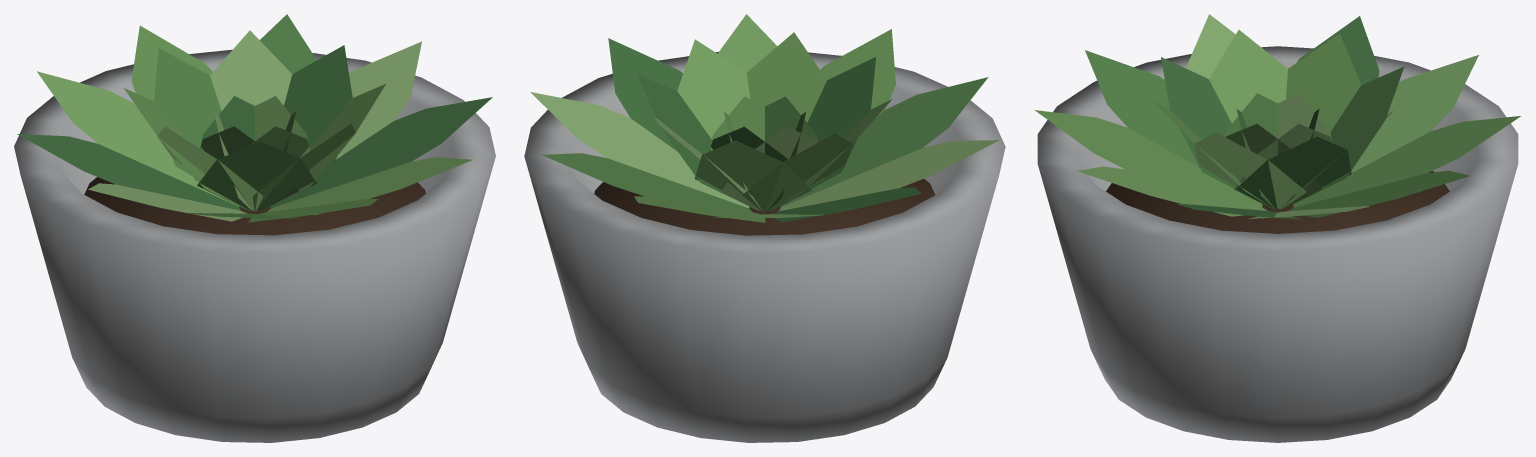
Rendered from i_plant_6.glb.
3 renders of one model, left to right at view 1: azimuth 30°, elevation 25°; view 2: azimuth 150°, elevation 25°; view 3: azimuth 270°, elevation 25°, orthographic.
Parts seen in each view (by area): view 1: o, o.017, o.021, o.001, o.022, o.010, o.012, o.015, o.011, o.018, o.016, o.020 (+11 smaller); view 2: o, o.024, o.018, o.001, o.023, o.009, o.008, o.012, o.015, o.019, o.017, o.010 (+11 smaller); view 3: o, o.001, o.025, o.020, o.021, o.024, o.014, o.013, o.010, o.015, o.012, o.009 (+11 smaller).
Boxes of the visible parts, x1,y1,x2,y2 form: o: (14, 49, 495, 442); o.017: (270, 97, 492, 208); o.021: (37, 71, 238, 206); o.001: (84, 177, 425, 235); o.022: (17, 134, 240, 210); o.010: (284, 45, 352, 169); o.012: (154, 48, 221, 176); o.015: (197, 141, 316, 210); o.011: (210, 30, 292, 110); o.018: (336, 41, 421, 159); o.016: (267, 157, 472, 214); o.020: (131, 25, 212, 100); o: (524, 51, 1005, 442); o.024: (780, 77, 988, 206); o.018: (530, 92, 749, 208); o.001: (594, 179, 935, 235); o.023: (779, 140, 999, 211); o.009: (677, 39, 750, 139); o.008: (747, 32, 826, 122); o.012: (694, 140, 811, 210); o.015: (807, 57, 875, 188); o.019: (542, 153, 751, 211); o.017: (608, 38, 683, 151); o.010: (637, 74, 755, 209); o: (1037, 46, 1518, 442); o.001: (1106, 171, 1449, 233); o.025: (1034, 110, 1262, 207); o.020: (1293, 116, 1520, 207); o.021: (1351, 55, 1478, 172); o.024: (1085, 50, 1199, 167); o.014: (1209, 29, 1287, 123); o.013: (1286, 33, 1361, 131); o.010: (1236, 136, 1351, 208); o.015: (1161, 57, 1234, 188); o.012: (1288, 66, 1404, 206); o.009: (1194, 132, 1306, 209).
Size of the model in its own units: 0.14 by 0.091 by 0.1405.
